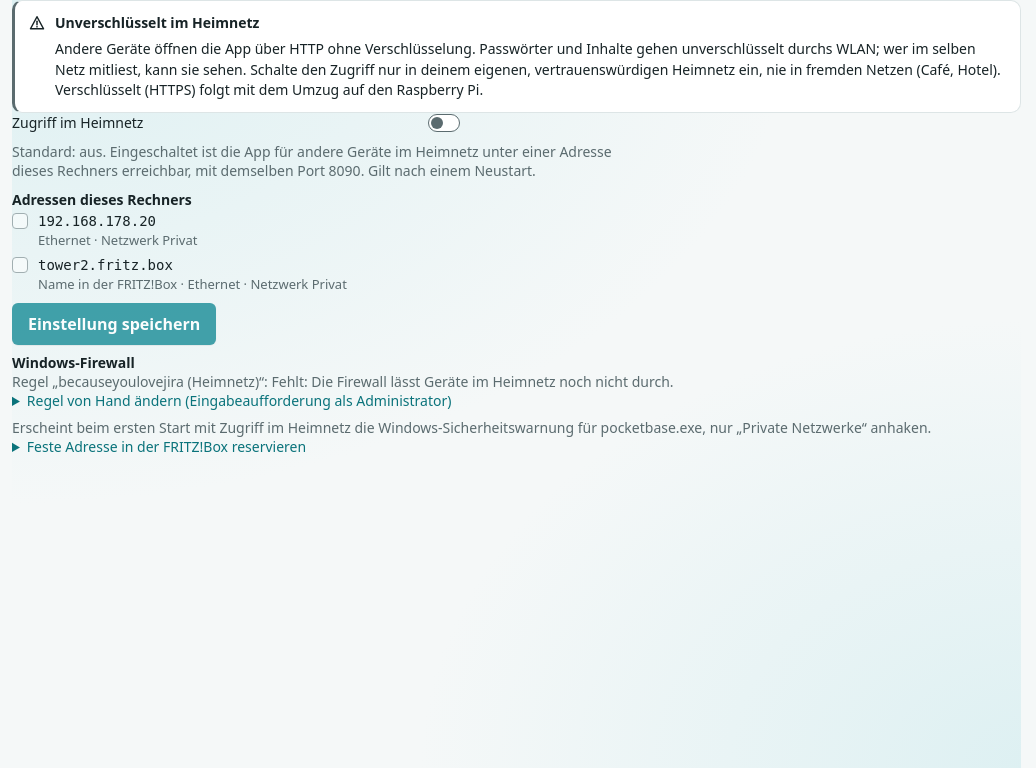
Test: access in the home network › asks for an address at the field before it saves
This screenshot has width=1036, height=768.
Click the switch labelled "Zugriff im Heimnetz" at (444,123), box 428,114 -> 460,132
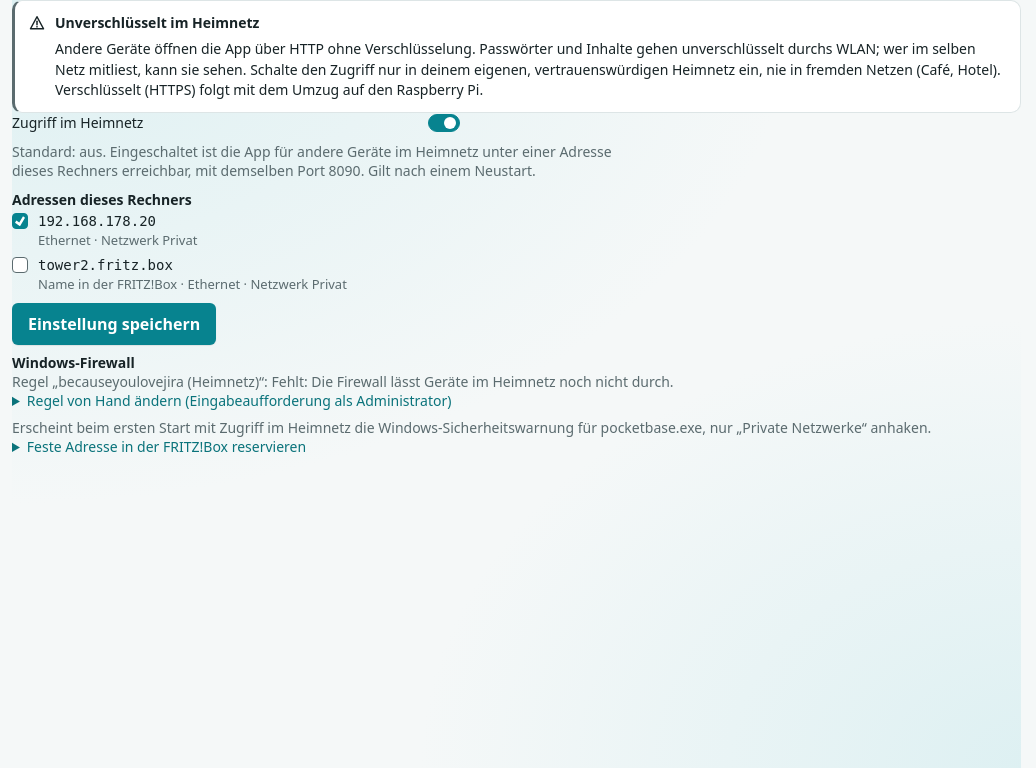
Click the checkbox labelled "192.168.178.20 Ethernet · Netzwerk Privat" at (20,221), box 12,213 -> 28,229
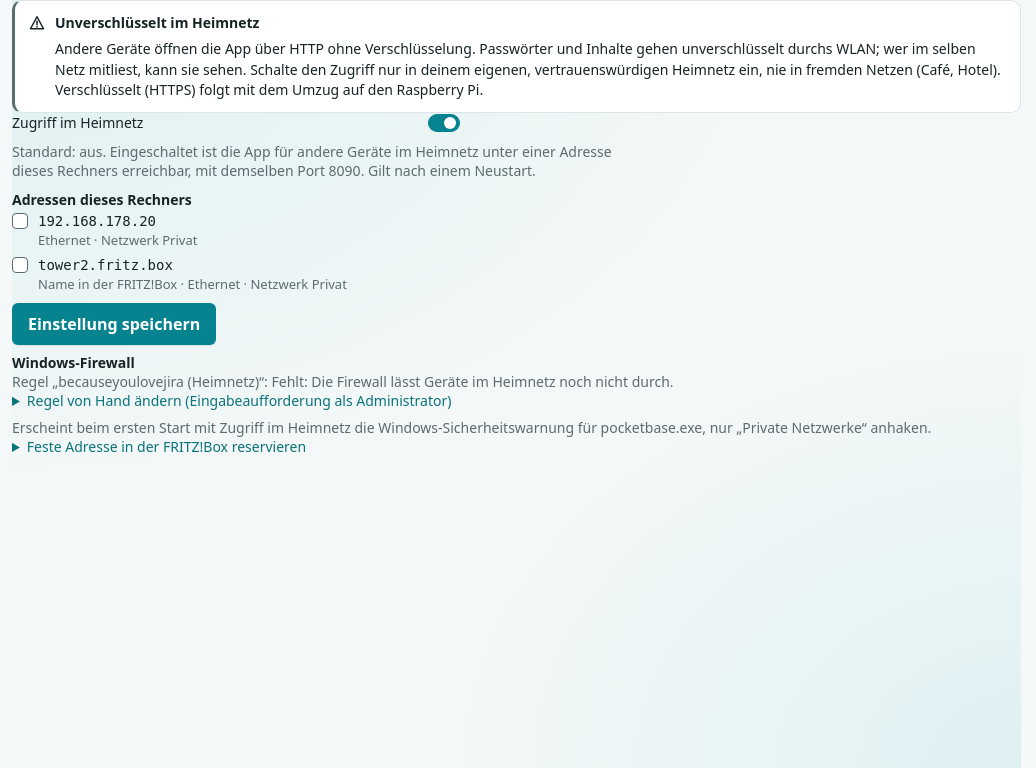
Click the button "Einstellung speichern" at (114,324), box 12,303 -> 216,345
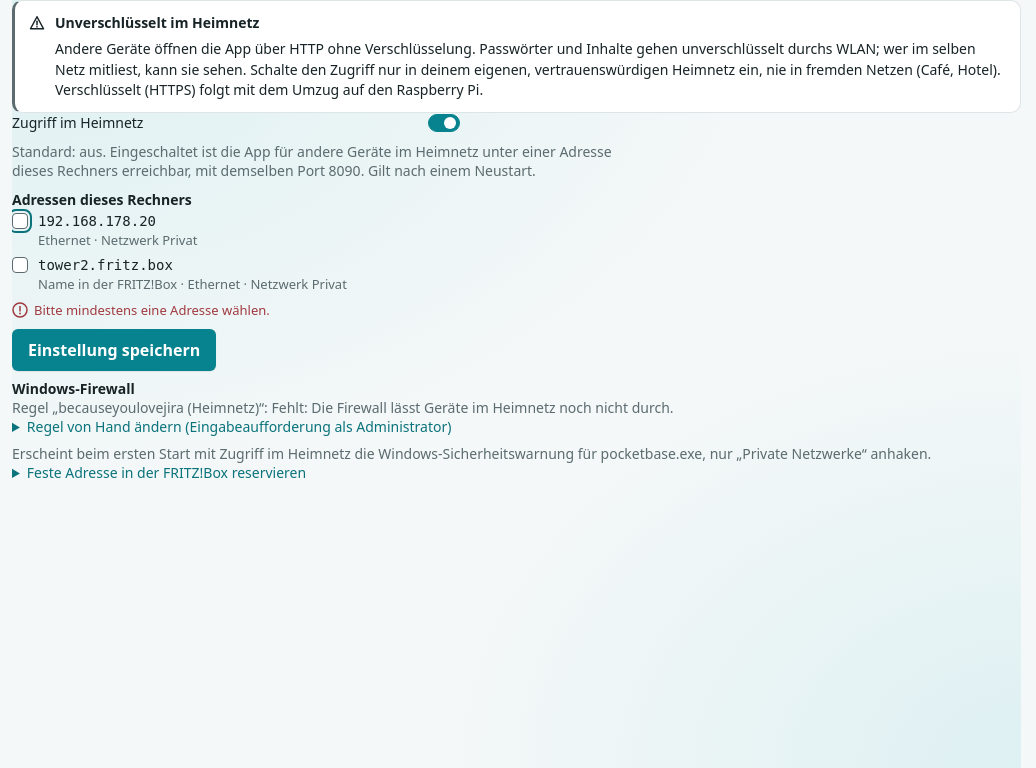
Expected: the text "Bitte mindestens eine Adresse wählen." is shown, 34,301 -> 270,319
